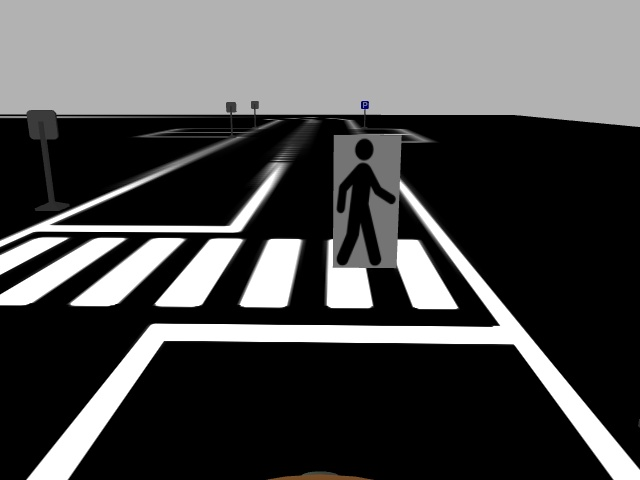parking: (359, 99, 370, 110)
pedestrian: (331, 130, 400, 271)
